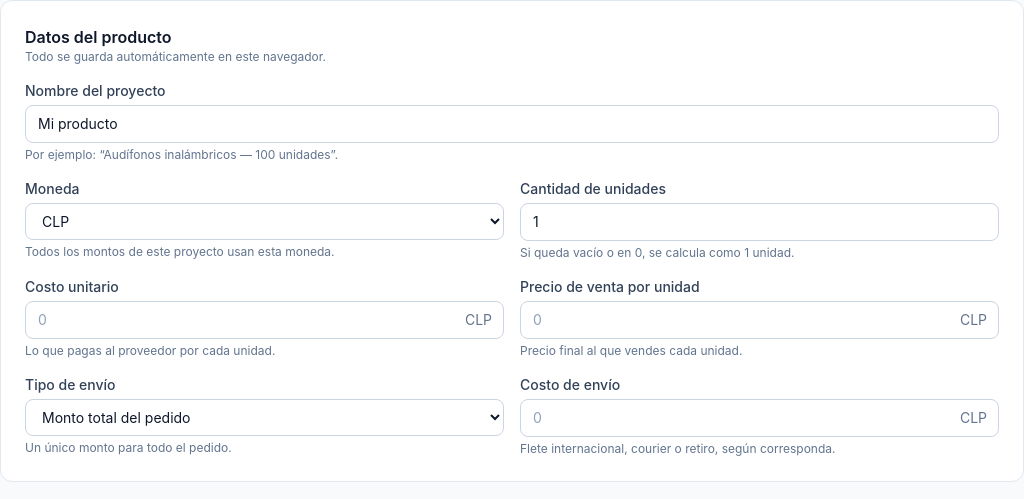
ProductForm › cambia el tipo de envío y actualiza la ayuda
This screenshot has width=1024, height=499.
Select "Por unidad" in the dropdown labelled "Tipo de envío": (264, 418) [25,399,504,436]
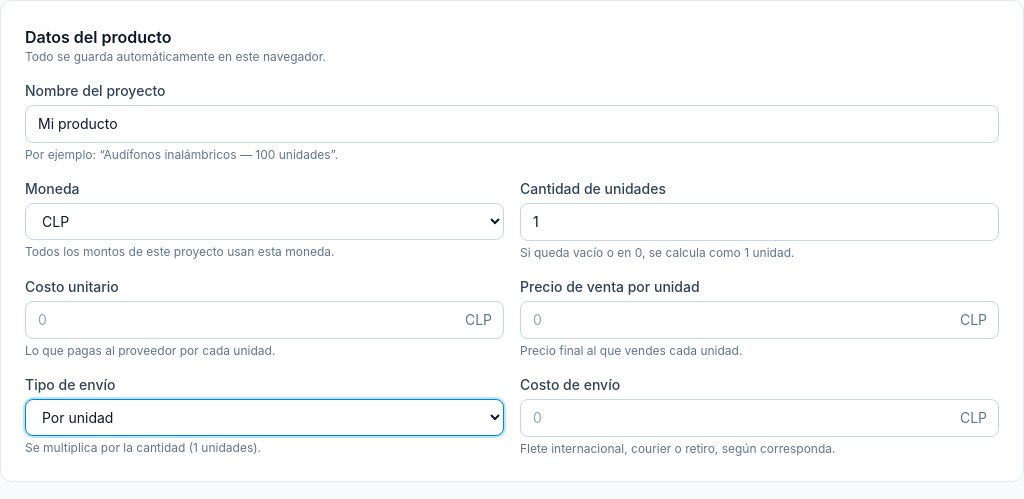
Expected: the text "Se multiplica por la cantidad (1 unidades)." is shown, [25,440,261,455]
